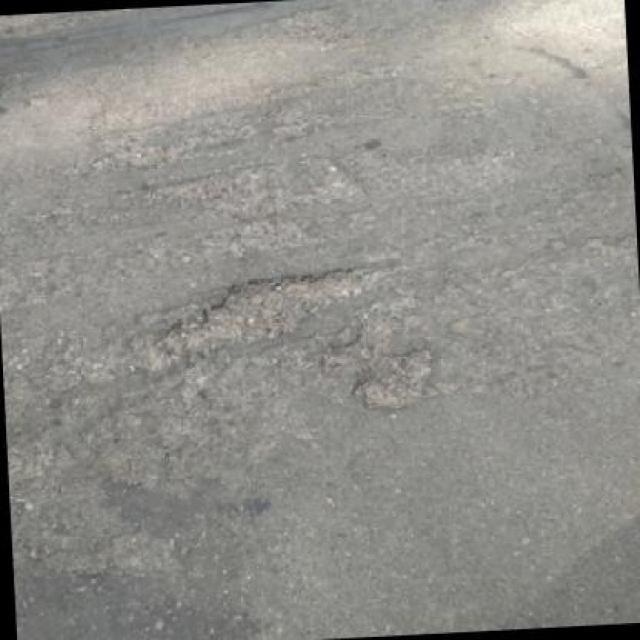pothole: (150, 264, 382, 359), (347, 345, 438, 412)
